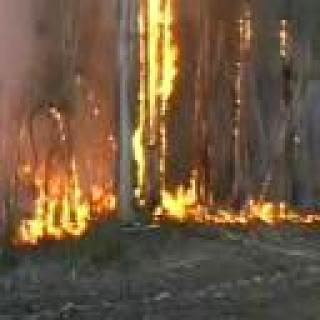fire: (0, 134, 320, 231), (131, 0, 188, 139), (232, 4, 253, 108), (278, 19, 294, 82)
